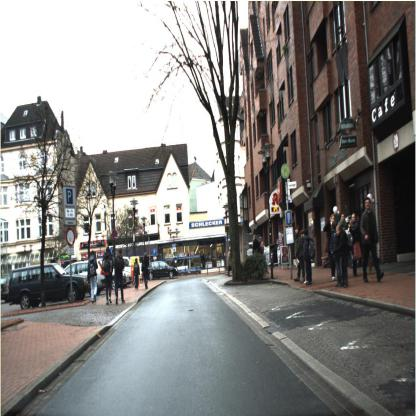prohibitory: (65, 227, 76, 247)
